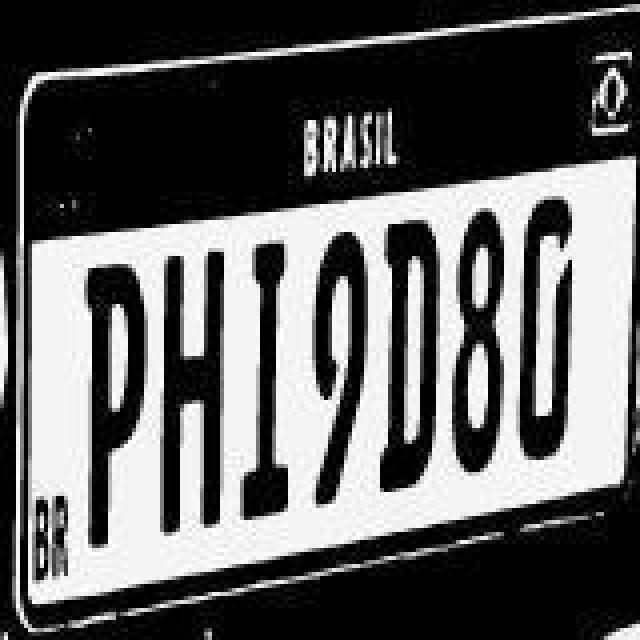8: (444, 208, 516, 480)
9: (300, 226, 372, 510)
D: (516, 190, 588, 466), (380, 214, 444, 498)
H: (156, 246, 228, 538)
I: (234, 238, 294, 522)
P: (82, 256, 150, 552)
